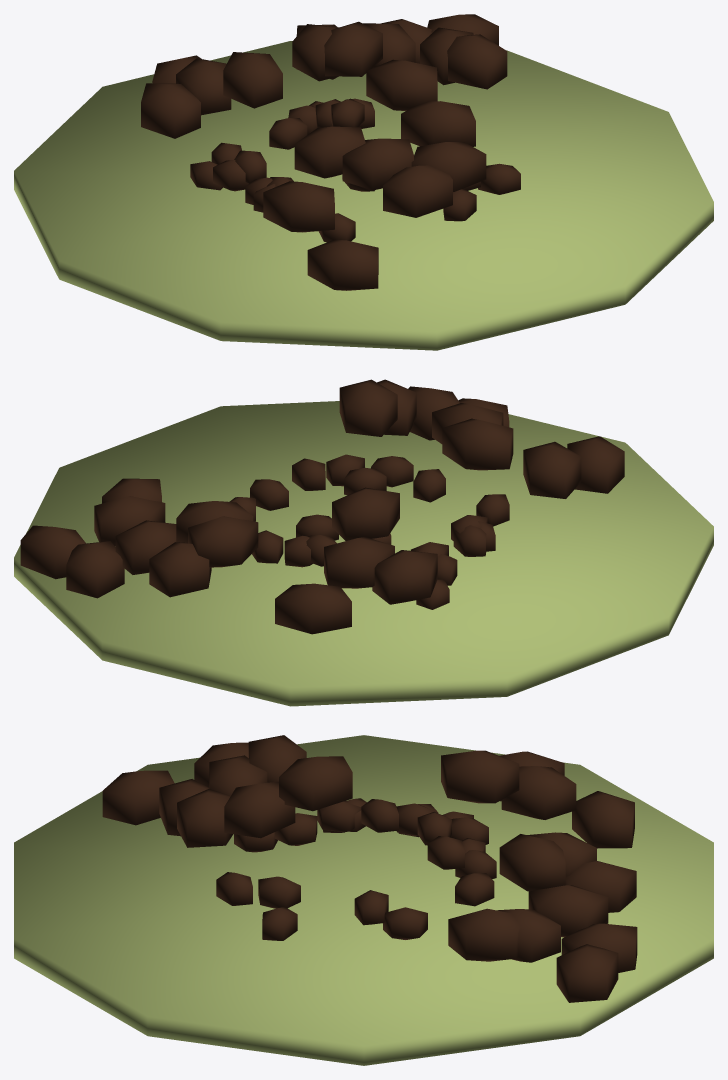
The model's file is Proc_RoastedCoffee.fbx.
3 views of the same model, one above another, from view 1: azimuth 30°, elevation 25°; view 2: azimuth 150°, elevation 25°; view 3: azimuth 270°, elevation 25° (orthographic). The views are drawn at different scales.
Visible parts, largest first — view 1: Proc_RoastedCoffee__Stack, Proc_RoastedCoffee; view 2: Proc_RoastedCoffee__Stack, Proc_RoastedCoffee; view 3: Proc_RoastedCoffee__Stack, Proc_RoastedCoffee.
Boxes of the visible parts, bbox=[...] form: Proc_RoastedCoffee__Stack: bbox=[14, 14, 713, 350]; Proc_RoastedCoffee: bbox=[190, 98, 520, 242]; Proc_RoastedCoffee__Stack: bbox=[14, 379, 713, 706]; Proc_RoastedCoffee: bbox=[229, 454, 509, 609]; Proc_RoastedCoffee__Stack: bbox=[14, 735, 713, 1065]; Proc_RoastedCoffee: bbox=[216, 798, 496, 940].
Size of the model in its own units: 0.162 by 0.0397 by 0.1541.
